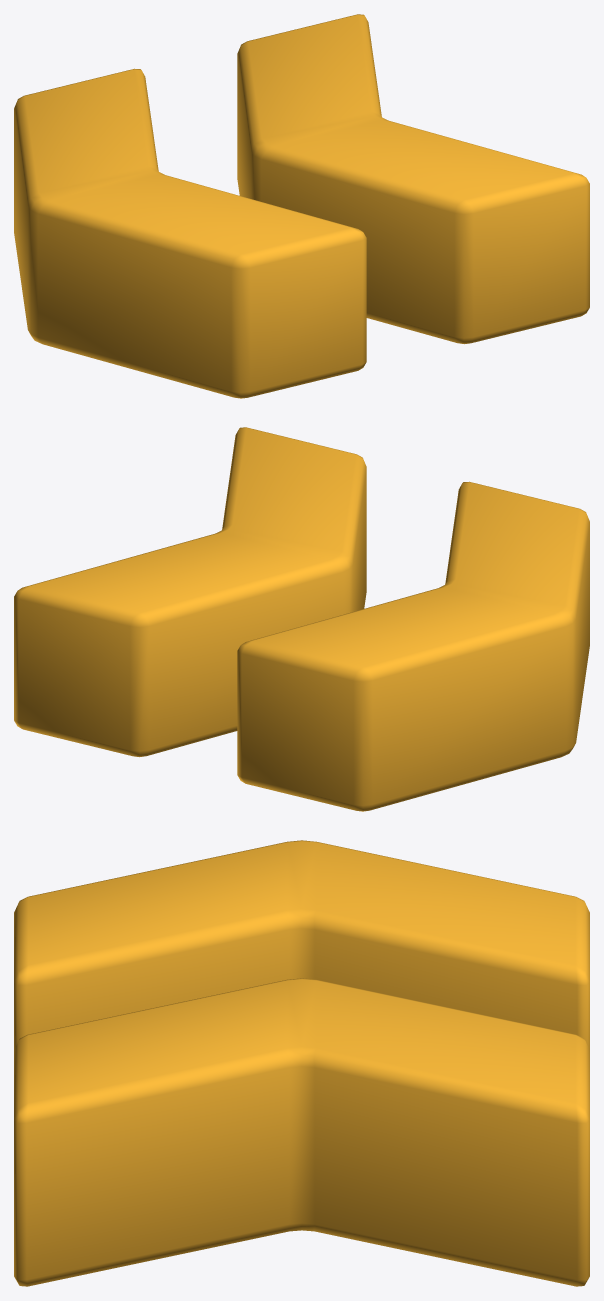
The model's file is left_sign.dae.
The picture shows the model from 3 angles, top to bottom: view 1: azimuth 30°, elevation 25°; view 2: azimuth 150°, elevation 25°; view 3: azimuth 270°, elevation 25°; orthographic projection. The views are drawn at different scales.
Visible parts, largest first — view 1: left_sign; view 2: left_sign; view 3: left_sign.
Part boxes in pixels (x1,y1,x2,y2): left_sign: [14, 14, 589, 398]; left_sign: [14, 427, 589, 811]; left_sign: [14, 840, 589, 1286].
Bounding box in the file's own units: 2.27 × 2 × 0.7.
